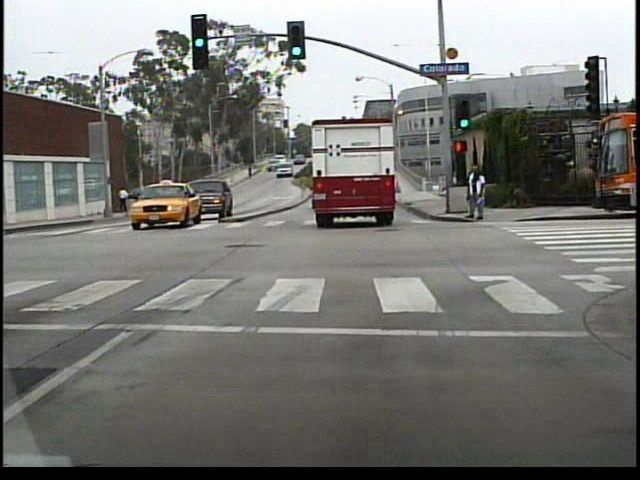person: (461, 165, 486, 224), (120, 186, 128, 216)
